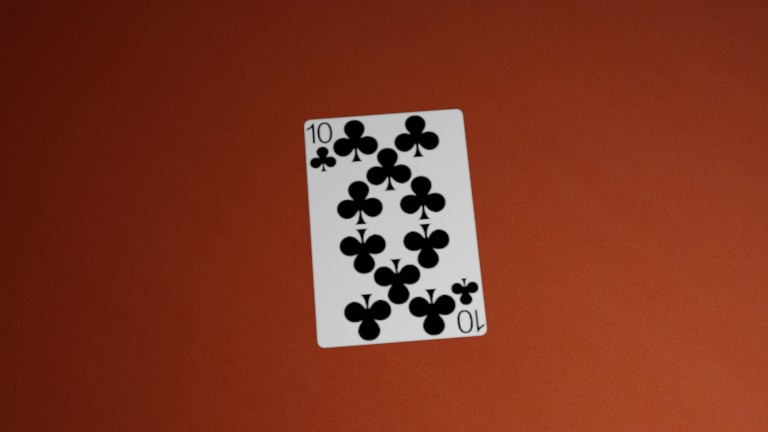10_of_clubs: (448, 276, 485, 333), (306, 122, 339, 174)
